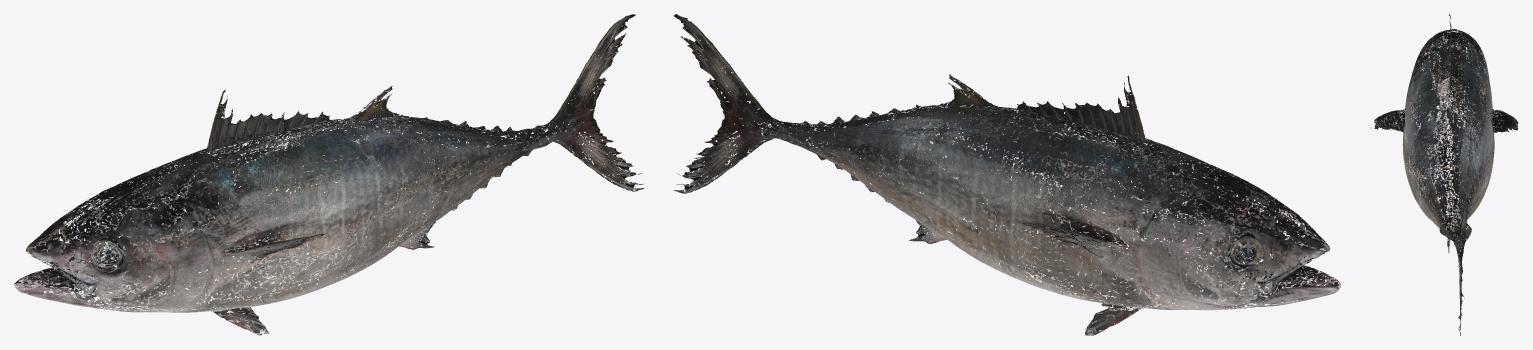
Rendered from tuna.glb.
3 renders of one model, left to right at view 1: azimuth 30°, elevation 25°; view 2: azimuth 150°, elevation 25°; view 3: azimuth 270°, elevation 25°, orthographic. The views are drawn at different scales.
Parts seen in each view (by area): view 1: Object_11, Object_6, Object_17; view 2: Object_11, Object_17, Object_6; view 3: Object_11, Object_17, Object_6.
Boxes of the visible parts, bbox=[...] form: Object_11: bbox=[24, 26, 644, 331]; Object_6: bbox=[14, 14, 641, 334]; Object_17: bbox=[19, 14, 643, 335]; Object_11: bbox=[674, 18, 1334, 335]; Object_17: bbox=[674, 14, 1340, 335]; Object_6: bbox=[673, 14, 1340, 335]; Object_11: bbox=[1374, 21, 1518, 332]; Object_17: bbox=[1371, 14, 1517, 335]; Object_6: bbox=[1370, 14, 1518, 330].
Size of the model in its own units: 15.29 by 5.64 by 4.01.
3 materials, 3 textured.
